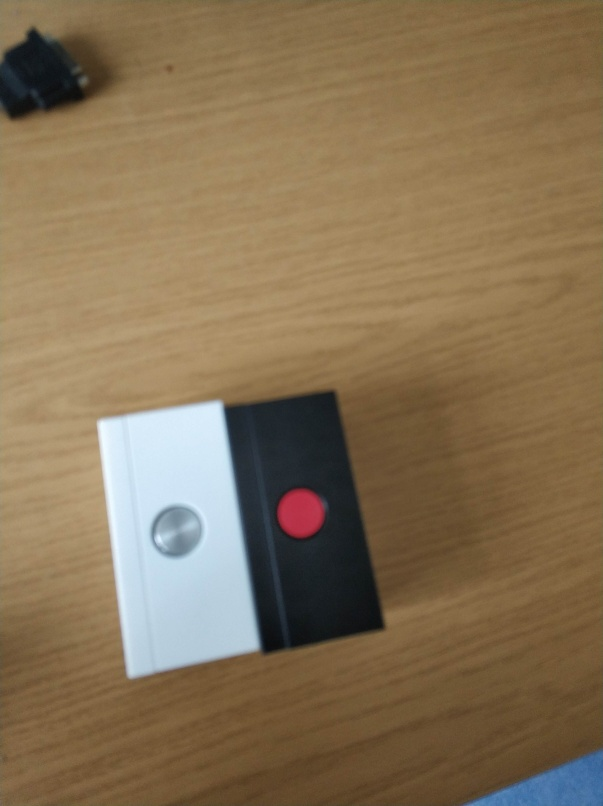black+black+red: (221, 387, 386, 657)
white+white+silver: (92, 395, 253, 683)
